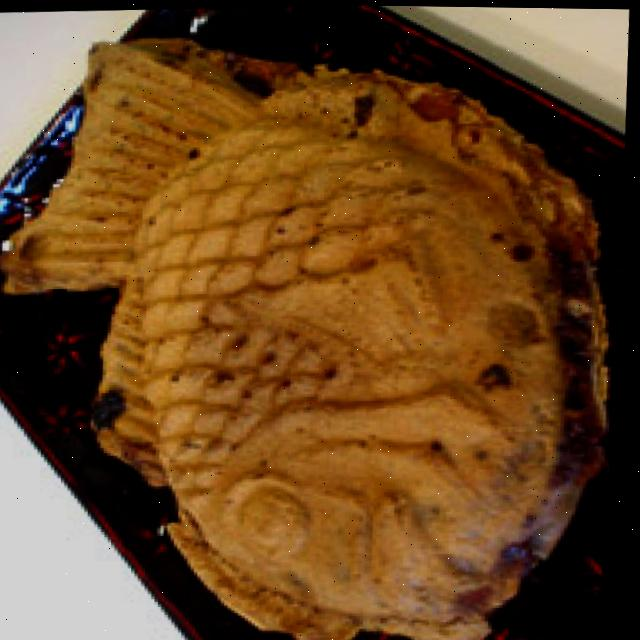熟制海鲜: (0, 12, 639, 640)
